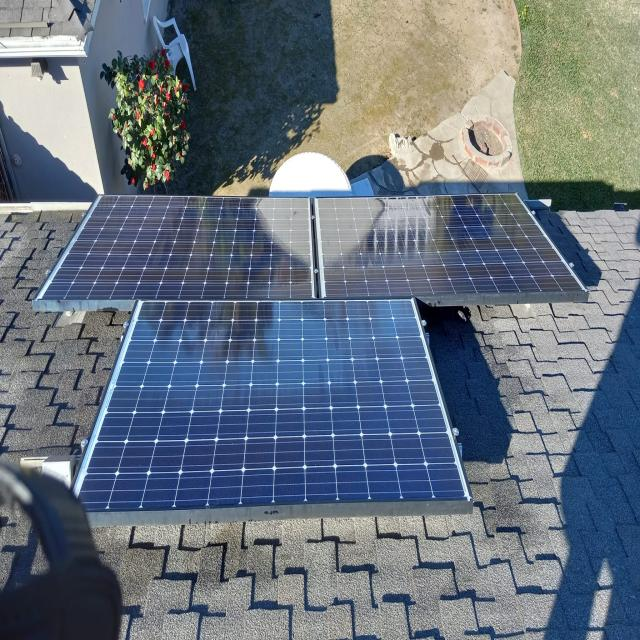clean-solar-panel: (75, 300, 471, 524), (34, 193, 588, 311)
